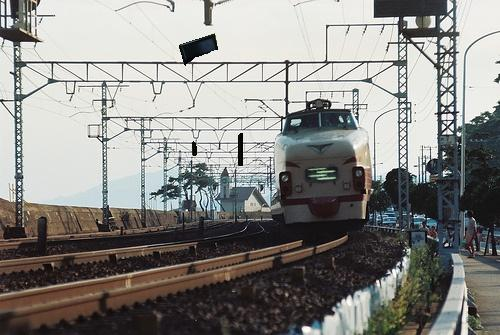tampered: (180, 34, 243, 166)
